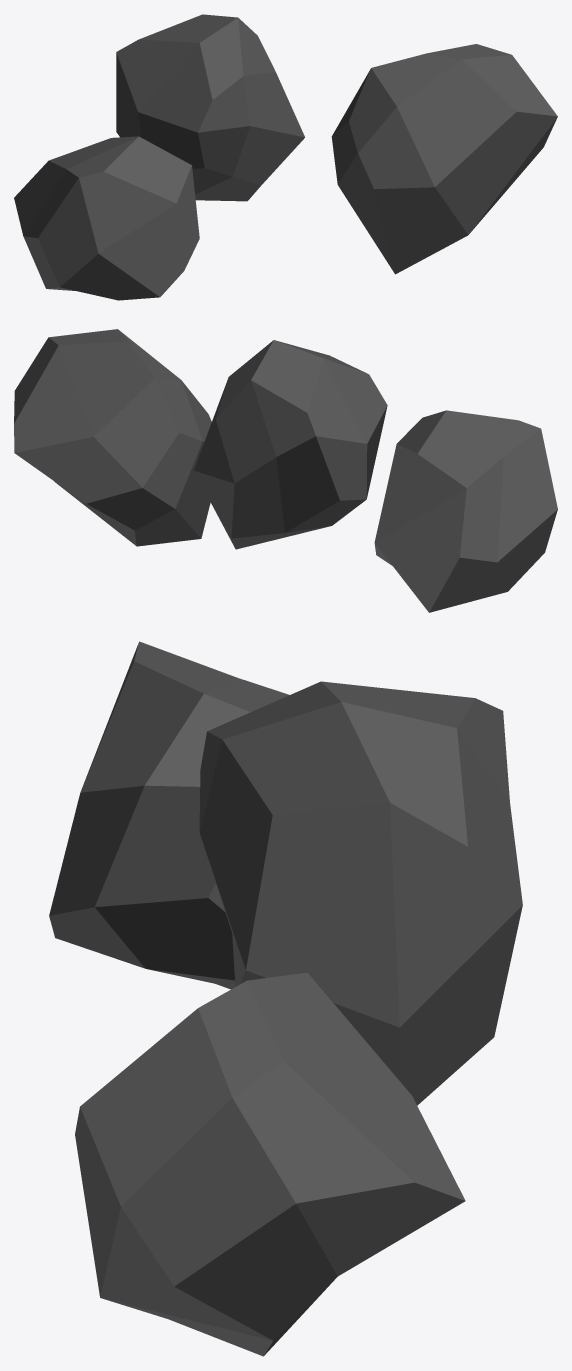
File: stone.fbx
3 renders of one model, top to bottom at view 1: azimuth 30°, elevation 25°; view 2: azimuth 150°, elevation 25°; view 3: azimuth 270°, elevation 25°, orthographic. The views are drawn at different scales.
Visible parts, largest first — view 1: Box934; view 2: Box934; view 3: Box934.
Boxes of the visible parts, <box> form: Box934: <box>14,14,557,300</box>; Box934: <box>14,329,557,612</box>; Box934: <box>49,641,522,1356</box>.
Size of the model in its own units: 510 by 245 by 208.
